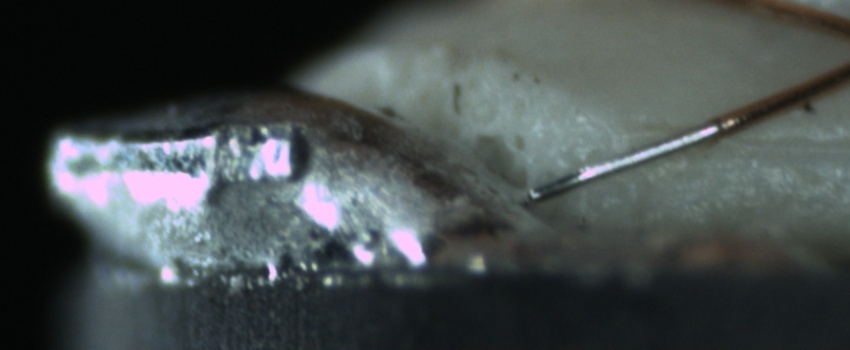DL: (614, 109, 850, 173)
TS: (523, 118, 724, 201)
